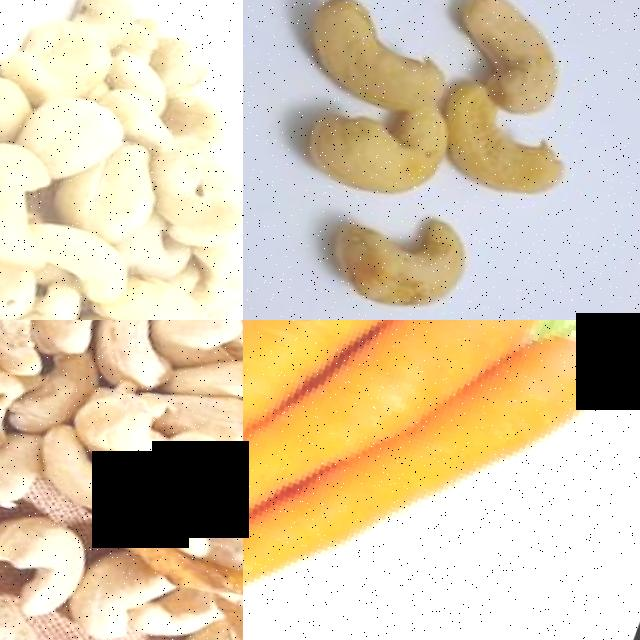carrot: (463, 320, 634, 557)
cashew: (317, 194, 519, 320), (291, 0, 473, 118), (448, 101, 640, 211), (454, 0, 623, 123), (282, 101, 465, 214), (25, 415, 177, 527), (78, 378, 233, 476), (61, 135, 181, 251), (80, 513, 190, 635), (136, 129, 243, 254), (12, 84, 140, 187), (0, 1, 122, 102), (29, 216, 165, 306), (0, 502, 106, 601), (96, 252, 229, 320), (0, 124, 68, 256), (0, 417, 82, 515), (0, 211, 52, 320), (175, 335, 243, 416), (102, 320, 184, 386), (148, 320, 243, 374), (0, 352, 48, 453), (0, 320, 70, 371), (0, 580, 59, 640), (0, 68, 42, 135), (44, 320, 119, 355)
